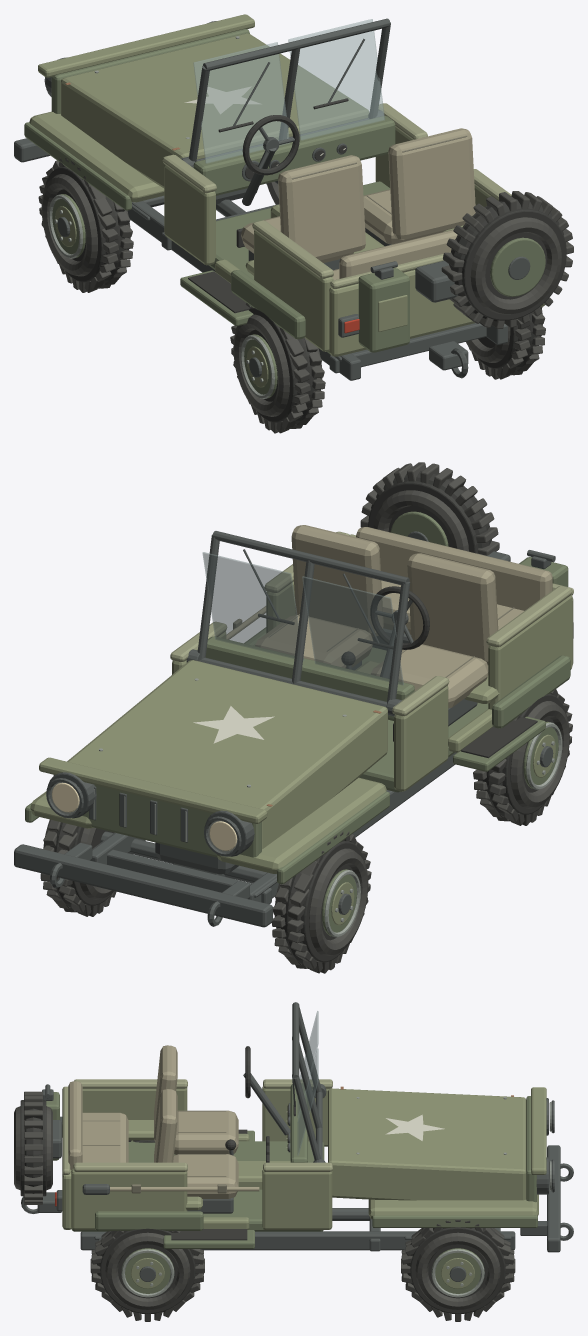
The model's file is jeep.glb.
The picture shows the model from 3 angles, top to bottom: view 1: azimuth 30°, elevation 25°; view 2: azimuth 150°, elevation 25°; view 3: azimuth 270°, elevation 25°; orthographic projection. The views are drawn at different scales.
Visible parts, largest first — view 1: Bloedjungle | Army Jeep; view 2: Bloedjungle | Army Jeep; view 3: Bloedjungle | Army Jeep.
Boxes of the visible parts, x1,y1,x2,y2 form: Bloedjungle | Army Jeep: [14, 14, 573, 433]; Bloedjungle | Army Jeep: [14, 462, 573, 973]; Bloedjungle | Army Jeep: [14, 1002, 573, 1321].
Bounding box in the file's own units: 1.86 × 1.82 × 3.92.
